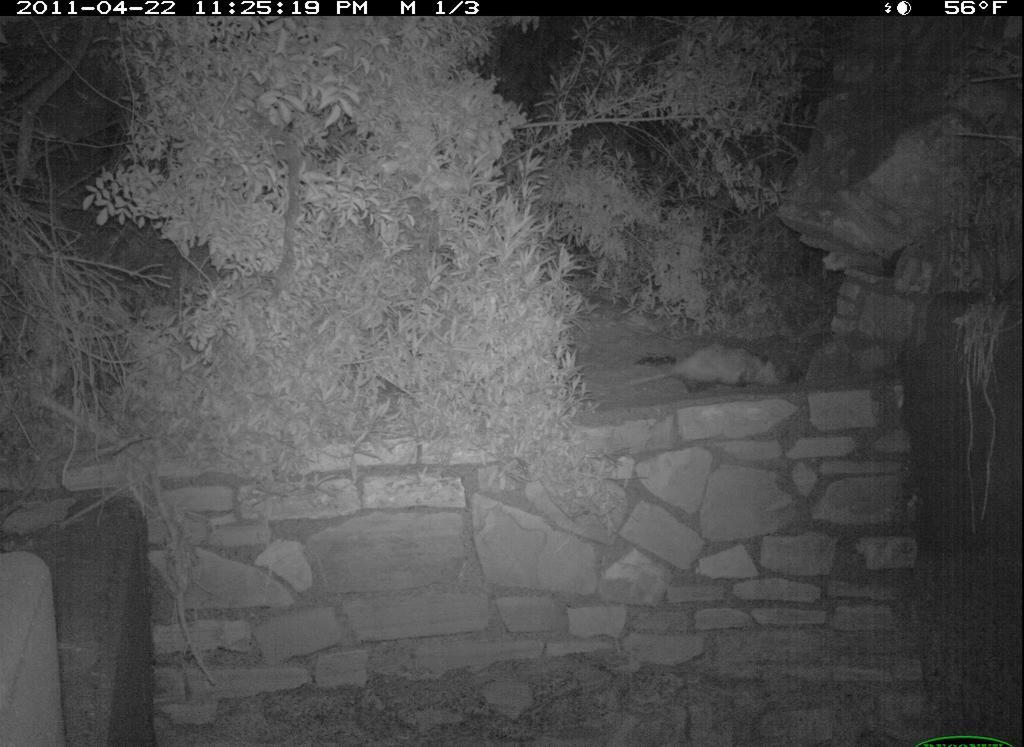opossum: (610, 337, 797, 400)
